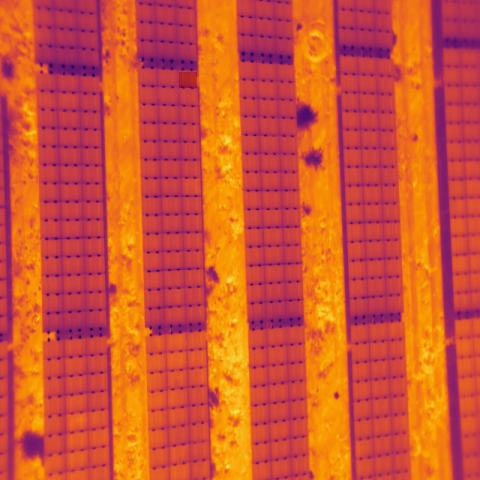fault: (180, 72, 198, 88)
